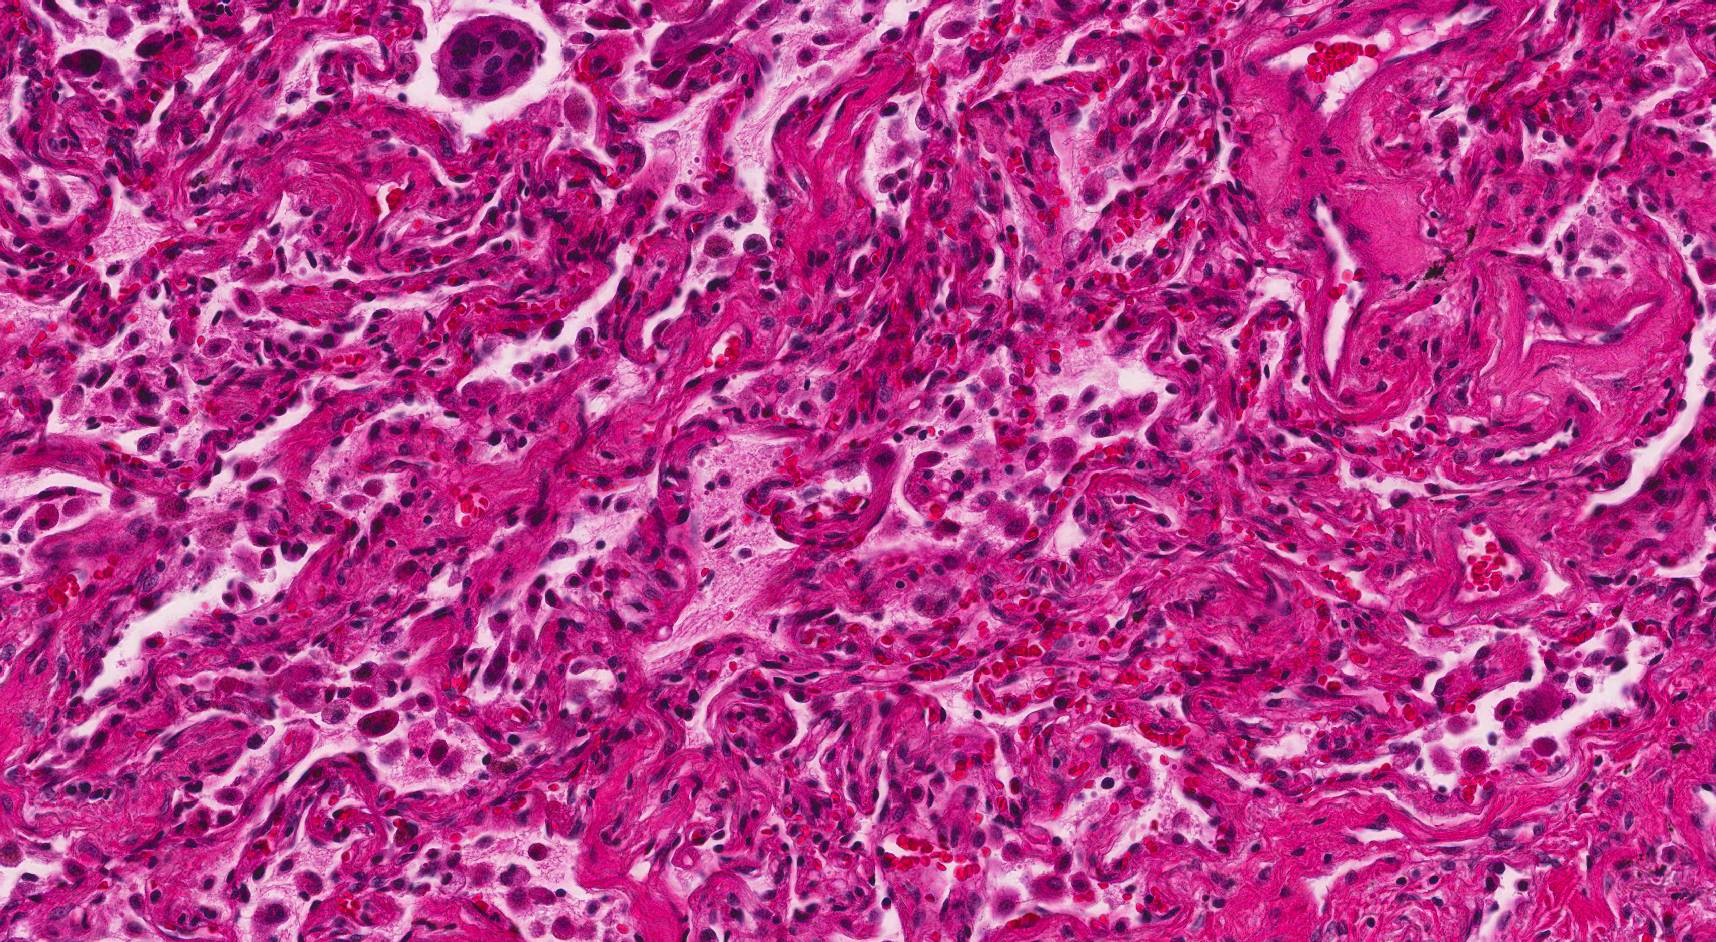stas: (438, 15, 549, 105)
